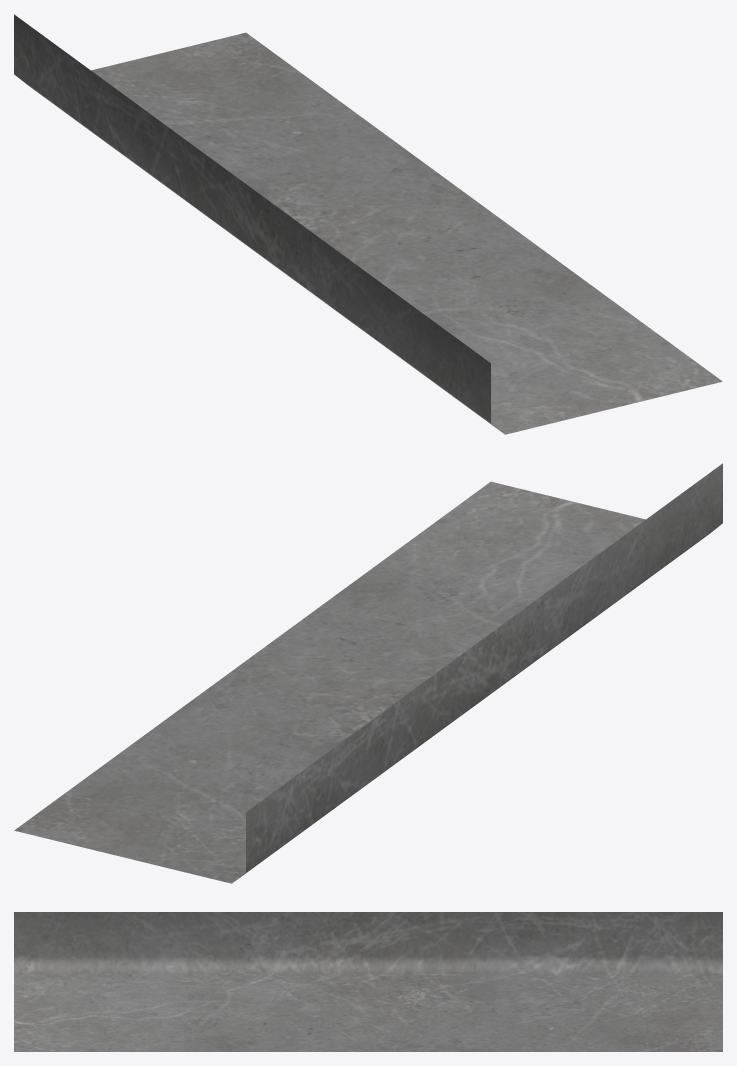
The model's file is Psychiatric_Ward_Infirmary_Ceiling_Crowning_2m.glb.
3 renders of one model, top to bottom at view 1: azimuth 30°, elevation 25°; view 2: azimuth 150°, elevation 25°; view 3: azimuth 270°, elevation 25°, orthographic. The views are drawn at different scales.
Parts seen in each view (by area): view 1: Psychiatric_Ward_Infirmary_Ceiling_Crowning_2m; view 2: Psychiatric_Ward_Infirmary_Ceiling_Crowning_2m; view 3: Psychiatric_Ward_Infirmary_Ceiling_Crowning_2m.
Boxes of the visible parts, x1,y1,x2,y2 form: Psychiatric_Ward_Infirmary_Ceiling_Crowning_2m: (14, 14, 722, 434); Psychiatric_Ward_Infirmary_Ceiling_Crowning_2m: (14, 463, 722, 883); Psychiatric_Ward_Infirmary_Ceiling_Crowning_2m: (14, 912, 722, 1051).
Size of the model in its own units: 0.5621 by 0.1736 by 2.
1 material, 1 textured.
